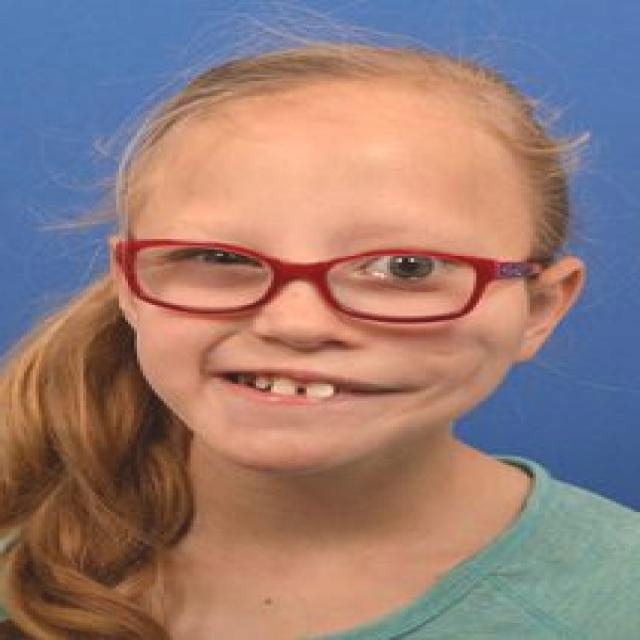normal_face: (129, 106, 506, 467)
stroke_face: (121, 113, 498, 463)
